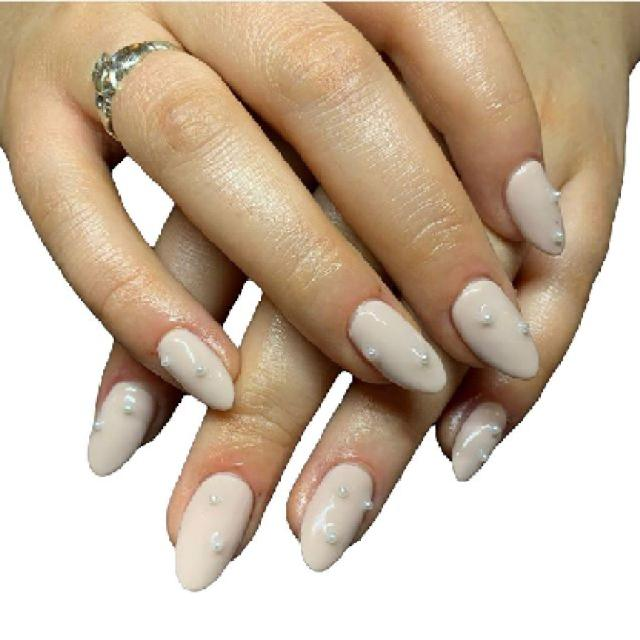Nail: (349, 299, 446, 392), (451, 278, 539, 378), (178, 472, 251, 589), (301, 464, 371, 570), (89, 381, 155, 474), (158, 330, 234, 409), (505, 160, 565, 254), (452, 404, 506, 479)
